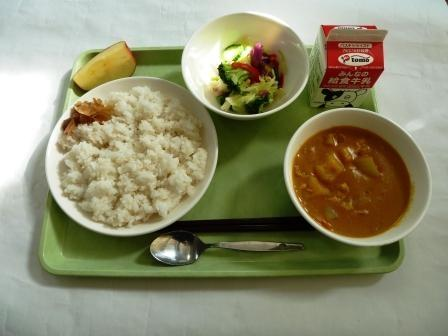Apple: (57, 38, 147, 93)
Curry: (287, 112, 433, 245)
Milk: (307, 20, 391, 116)
Rice: (66, 87, 206, 225)
Salad: (187, 15, 304, 117)
